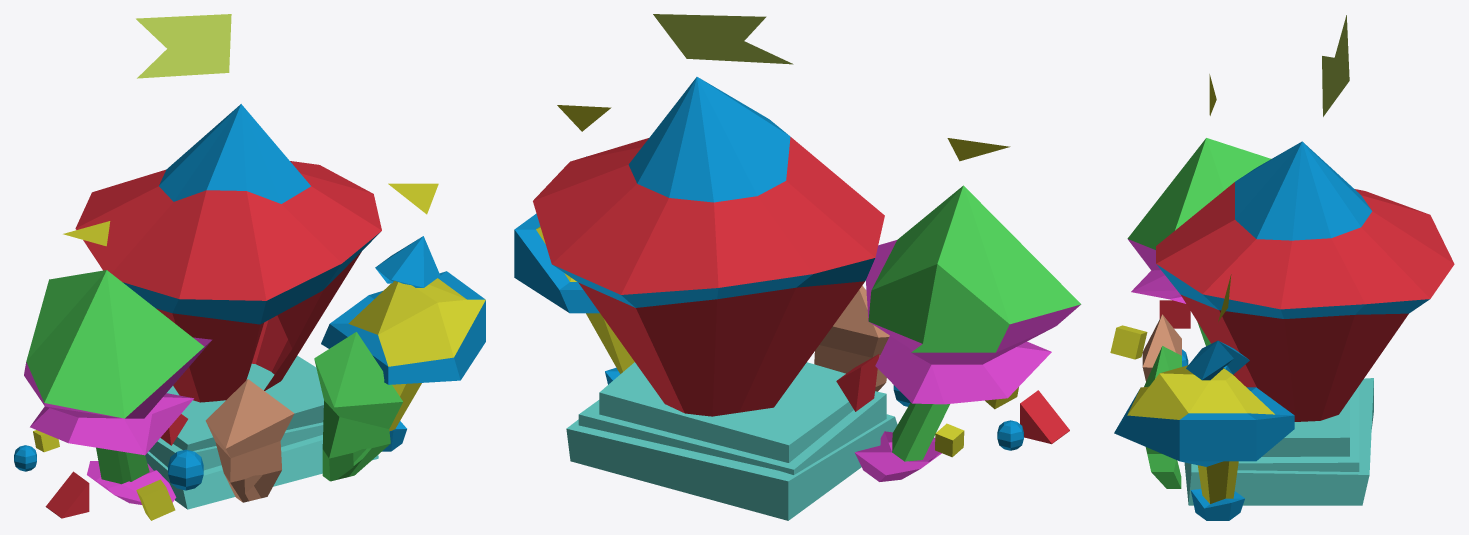
Rendered from PolygonPark.fbx.
3 views of the same model, side by side, from view 1: azimuth 30°, elevation 25°; view 2: azimuth 150°, elevation 25°; view 3: azimuth 270°, elevation 25° (orthographic). The views are drawn at different scales.
Visible parts, largest first — view 1: Red Blue Tent, Multicoloured Shapes, Yellow Blue Carousel, Cyan Platform.001, Green Ticket Booth, Peach Ticket Booth.000; view 2: Red Blue Tent, Multicoloured Shapes, Cyan Platform.001, Yellow Blue Carousel, Peach Ticket Booth.000; view 3: Red Blue Tent, Yellow Blue Carousel, Cyan Platform.001, Multicoloured Shapes, Green Ticket Booth, Peach Ticket Booth.000.
Part boxes in pixels (x1,y1,x2,y2): Red Blue Tent: (75,14,381,402); Multicoloured Shapes: (14,221,212,520); Yellow Blue Carousel: (321,183,485,451); Cyan Platform.001: (145,355,378,509); Green Ticket Booth: (314,332,402,481); Peach Ticket Booth.000: (205,379,294,502); Red Blue Tent: (533,14,884,416); Multicoloured Shapes: (836,138,1081,481); Cyan Platform.001: (566,362,897,520); Yellow Blue Carousel: (514,105,634,384); Peach Ticket Booth.000: (814,285,889,391); Red Blue Tent: (1156,15,1454,421); Yellow Blue Carousel: (1114,274,1294,520); Cyan Platform.001: (1184,378,1373,505); Multicoloured Shapes: (1110,74,1270,366); Green Ticket Booth: (1144,346,1181,488); Peach Ticket Booth.000: (1142,314,1181,381).
Bounding box in the file's own units: 2.12 × 1.91 × 1.44.
